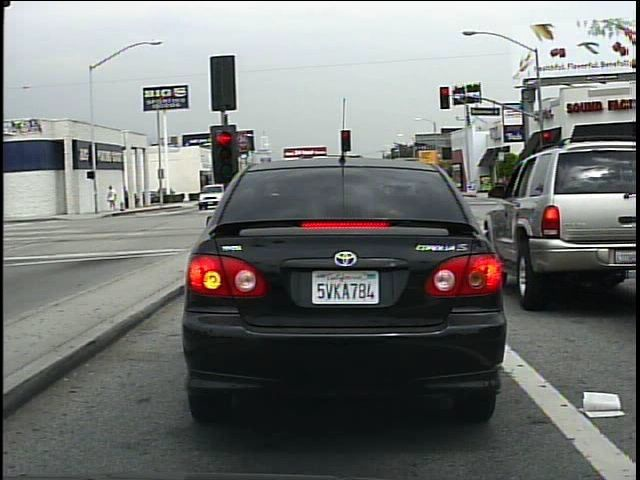person: (105, 183, 121, 212)
